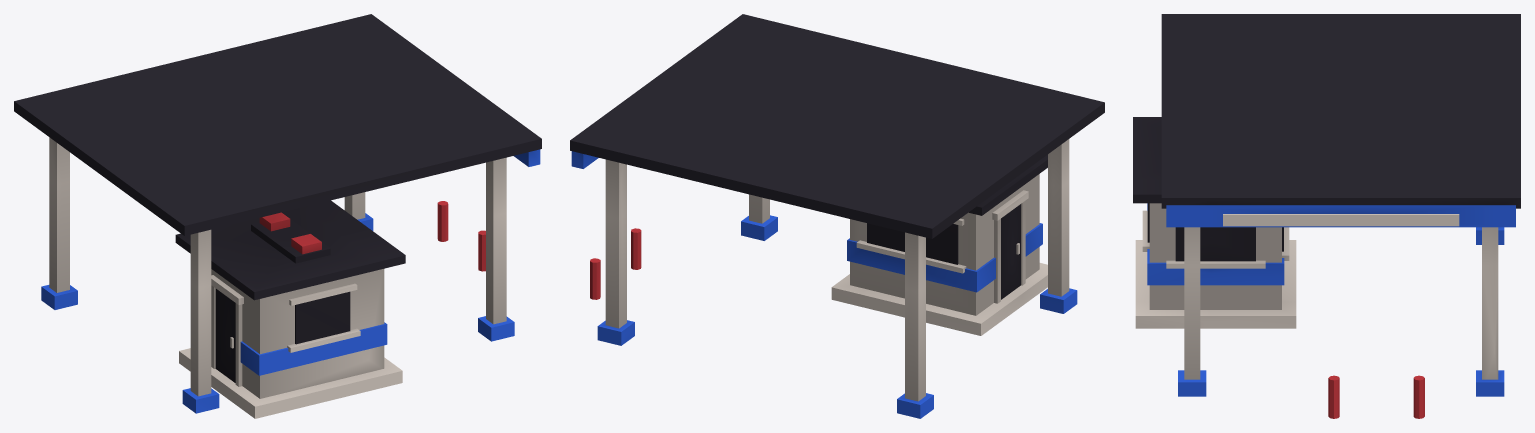
3 renders of one model, left to right at view 1: azimuth 30°, elevation 25°; view 2: azimuth 150°, elevation 25°; view 3: azimuth 270°, elevation 25°, orthographic. The views are drawn at different scales.
Visible parts, largest first — view 1: body_pal_uiDark, body_pal_picketWhite, body_pal_policeBlue, body_pal_survivorRed; view 2: body_pal_uiDark, body_pal_picketWhite, body_pal_policeBlue, body_pal_survivorRed; view 3: body_pal_uiDark, body_pal_picketWhite, body_pal_policeBlue, body_pal_survivorRed.
Part boxes in pixels (left/top/right/bottom): body_pal_uiDark: left=14, top=14, right=541, bottom=382; body_pal_picketWhite: left=49, top=137, right=506, bottom=418; body_pal_policeBlue: left=41, top=149, right=540, bottom=413; body_pal_survivorRed: left=259, top=201, right=485, bottom=271; body_pal_uiDark: left=570, top=14, right=1104, bottom=299; body_pal_picketWhite: left=605, top=139, right=1069, bottom=401; body_pal_policeBlue: left=571, top=151, right=1077, bottom=418; body_pal_survivorRed: left=590, top=228, right=641, bottom=299; body_pal_uiDark: left=1133, top=14, right=1520, bottom=261; body_pal_picketWhite: left=1135, top=203, right=1498, bottom=379; body_pal_policeBlue: left=1147, top=203, right=1515, bottom=396; body_pal_survivorRed: left=1328, top=375, right=1424, bottom=418.
Bounding box in the file's own units: 9.92 × 4.88 × 8.2.
